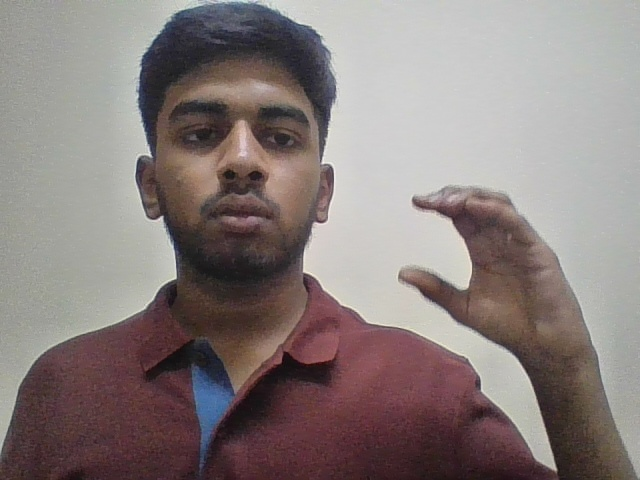C: (387, 162, 607, 372)
